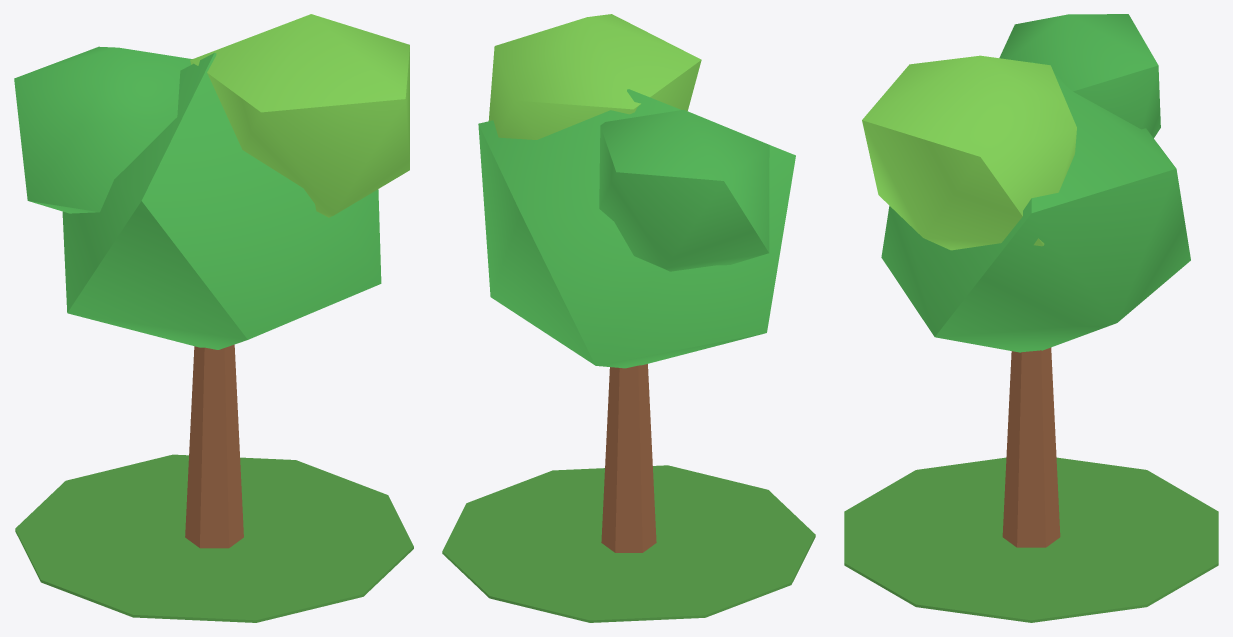
File: tree_round.glb
The picture shows the model from 3 angles, left to right: view 1: azimuth 30°, elevation 25°; view 2: azimuth 150°, elevation 25°; view 3: azimuth 270°, elevation 25°; orthographic projection. The views are drawn at different scales.
Visible parts, largest first — view 1: tree_round; view 2: tree_round; view 3: tree_round.
Boxes of the visible parts, left/top/right/bottom form: tree_round: left=14, top=14, right=413, bottom=622; tree_round: left=442, top=14, right=815, bottom=622; tree_round: left=844, top=14, right=1218, bottom=622.
Bounding box in the file's own units: 2.7 × 3.94 × 2.57.
Materials: 1 (1 with a texture image).
